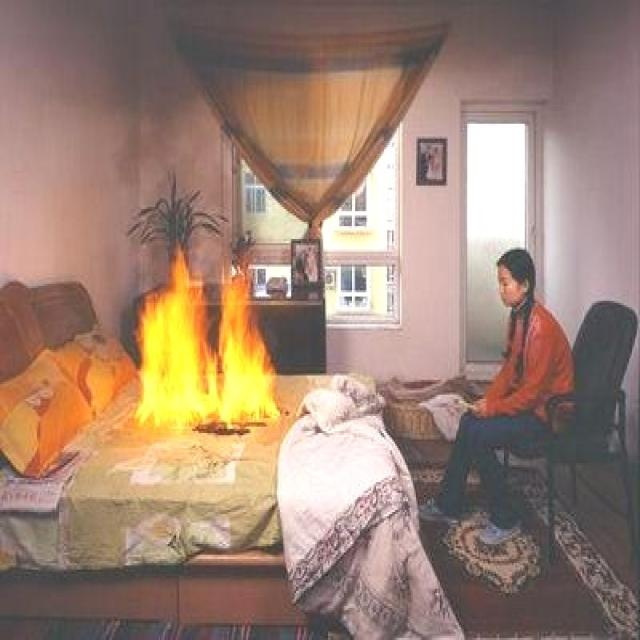fire: (120, 226, 277, 457)
